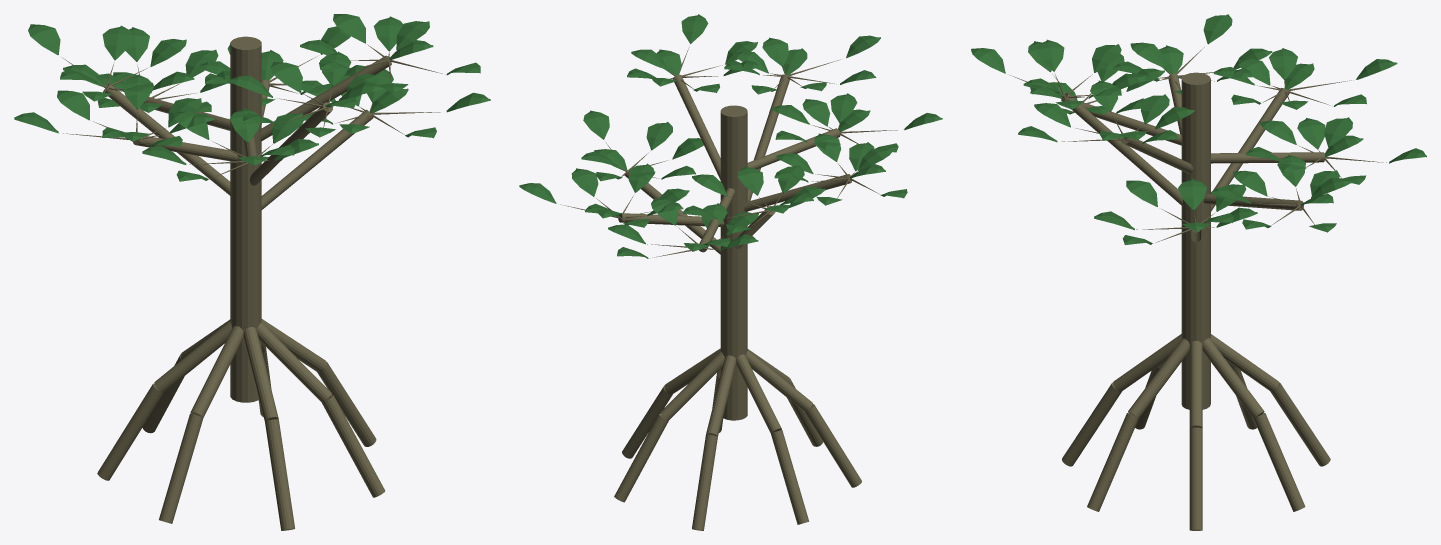
Rendered from source-edit.glb.
3 renders of one model, left to right at view 1: azimuth 30°, elevation 25°; view 2: azimuth 150°, elevation 25°; view 3: azimuth 270°, elevation 25°, orthographic. The views are drawn at different scales.
Parts seen in each view (by area): view 1: MANGROVE_Trunk, PROP_RootLower.005, PROP_RootLower.004, PROP_RootLower.006, PROP_RootLower.003, MANGROVE_Branch.001, MANGROVE_Branch, PROP_RootUpper.006, PROP_RootUpper.004, PROP_RootUpper.005, PROP_RootUpper.003, PROP_RootLower (+16 smaller); view 2: MANGROVE_Trunk, PROP_RootLower.002, PROP_RootLower.003, PROP_RootLower.001, PROP_RootLower.004, PROP_RootUpper.003, PROP_RootUpper.002, MANGROVE_Branch.005, PROP_RootUpper.004, PROP_RootUpper.001, PROP_RootLower, MANGROVE_Branch.002 (+14 smaller); view 3: MANGROVE_Trunk, PROP_RootLower, MANGROVE_Branch.002, PROP_RootLower.006, PROP_RootLower.001, PROP_RootLower.005, PROP_RootLower.002, PROP_RootUpper.001, PROP_RootUpper.006, PROP_RootUpper, MANGROVE_Branch.001, PROP_RootUpper.002 (+13 smaller).
Boxes of the visible parts, box(x1,y1,x2,y2) form: MANGROVE_Trunk: box(230, 36, 261, 402); PROP_RootLower.005: box(265, 419, 294, 530); PROP_RootLower.004: box(159, 413, 203, 523); PROP_RootLower.006: box(322, 395, 385, 497); PROP_RootLower.003: box(97, 383, 163, 480); MANGROVE_Branch.001: box(103, 83, 230, 195); MANGROVE_Branch: box(261, 109, 373, 209); PROP_RootUpper.006: box(256, 322, 331, 402); PROP_RootUpper.004: box(190, 326, 243, 417); PROP_RootUpper.005: box(243, 327, 278, 421); PROP_RootUpper.003: box(154, 321, 232, 392); PROP_RootLower: box(317, 362, 376, 446); MANGROVE_Trunk: box(720, 105, 747, 420); PROP_RootLower.002: box(692, 434, 717, 530); PROP_RootLower.003: box(771, 430, 809, 524); PROP_RootLower.001: box(614, 414, 668, 502); PROP_RootLower.004: box(805, 404, 861, 487); PROP_RootUpper.003: box(736, 354, 781, 433); PROP_RootUpper.002: box(706, 355, 736, 436); MANGROVE_Branch.005: box(673, 74, 720, 179); PROP_RootUpper.004: box(746, 350, 812, 411); PROP_RootUpper.001: box(660, 351, 724, 420); PROP_RootLower: box(622, 385, 672, 458); MANGROVE_Branch.002: box(747, 74, 790, 201); MANGROVE_Trunk: box(1181, 72, 1210, 409); PROP_RootLower: box(1189, 427, 1202, 530); MANGROVE_Branch.002: box(1061, 93, 1182, 205); PROP_RootLower.006: box(1087, 413, 1138, 511); PROP_RootLower.001: box(1254, 413, 1305, 511); PROP_RootLower.005: box(1062, 382, 1121, 466); PROP_RootLower.002: box(1270, 382, 1330, 466); PROP_RootUpper.001: box(1202, 338, 1264, 418); PROP_RootUpper.006: box(1128, 338, 1189, 418); PROP_RootUpper: box(1189, 341, 1202, 427); MANGROVE_Branch.001: box(1211, 88, 1289, 211); PROP_RootUpper.002: box(1210, 334, 1278, 391).
Bounding box in the file's own units: 3.06 × 3.07 × 3.11.
